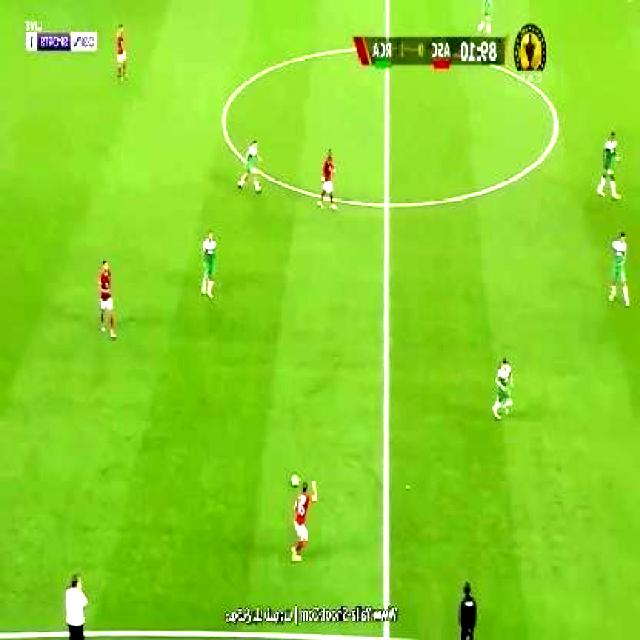halfcircle_bottom: (376, 186, 398, 222)
midline_bottom_intersection: (374, 618, 401, 640)
